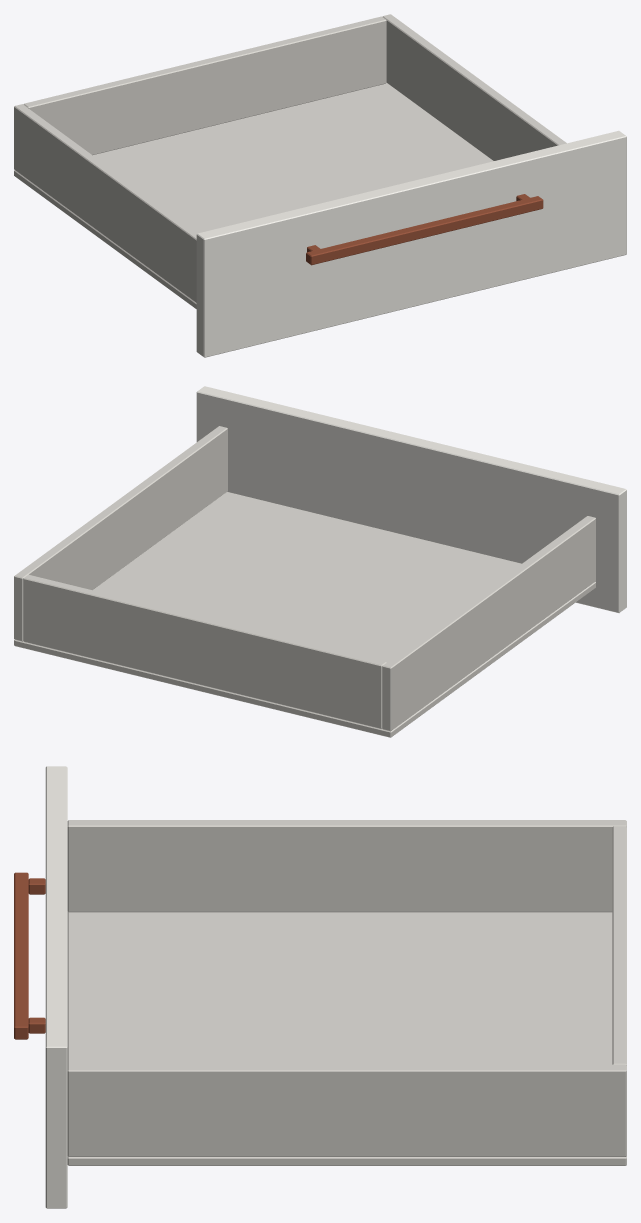
File: kitchen_island_overhang_b3_drawer.glb
3 renders of one model, top to bottom at view 1: azimuth 30°, elevation 25°; view 2: azimuth 150°, elevation 25°; view 3: azimuth 270°, elevation 25°, orthographic. The views are drawn at different scales.
Parts seen in each view (by area): view 1: kitchen_island_overhang_b3_drawer; view 2: kitchen_island_overhang_b3_drawer; view 3: kitchen_island_overhang_b3_drawer.
Boxes of the visible parts, x1,y1,x2,y2 form: kitchen_island_overhang_b3_drawer: (14,14,626,357); kitchen_island_overhang_b3_drawer: (14,386,626,737); kitchen_island_overhang_b3_drawer: (14,766,626,1208).
Size of the model in its own units: 0.547 by 0.147 by 0.504.
